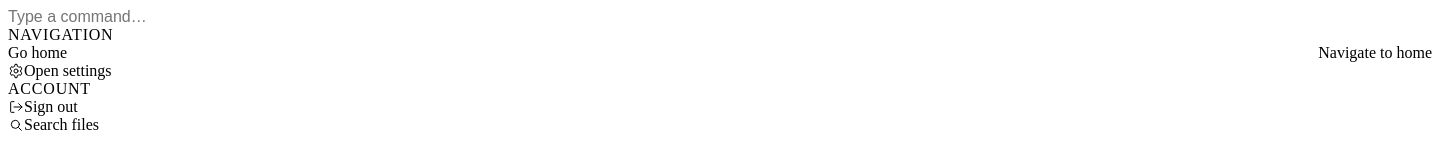
Scenario: AppCommandPalette › shows "No commands match." when filter has no results
Type "zzzznotfound" into the dropdown with class "app-command-palette__input". click: (720, 17)
box: [8,8,1432,26]
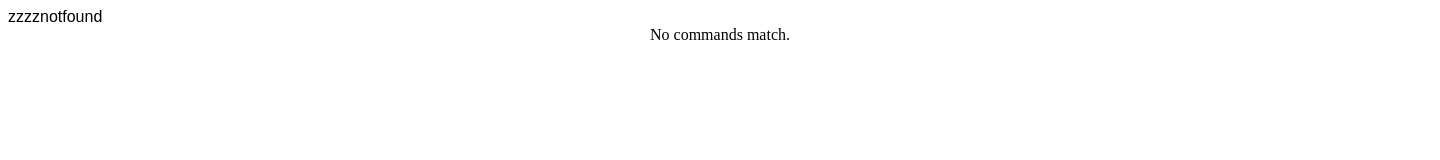
Expected: the list item with class "app-command-palette__empty" reads "No commands match.", [650,26,790,43]
